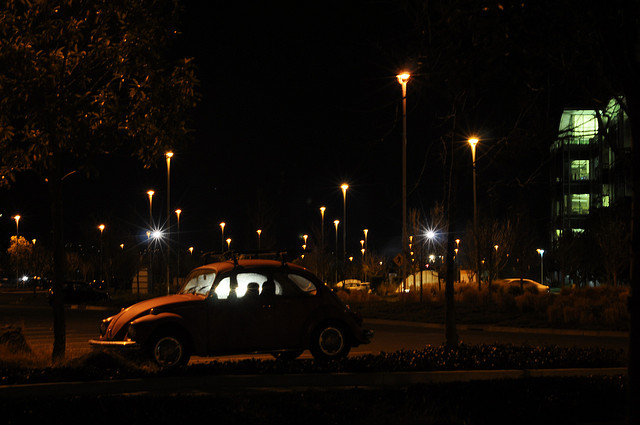car: (83, 255, 378, 370)
